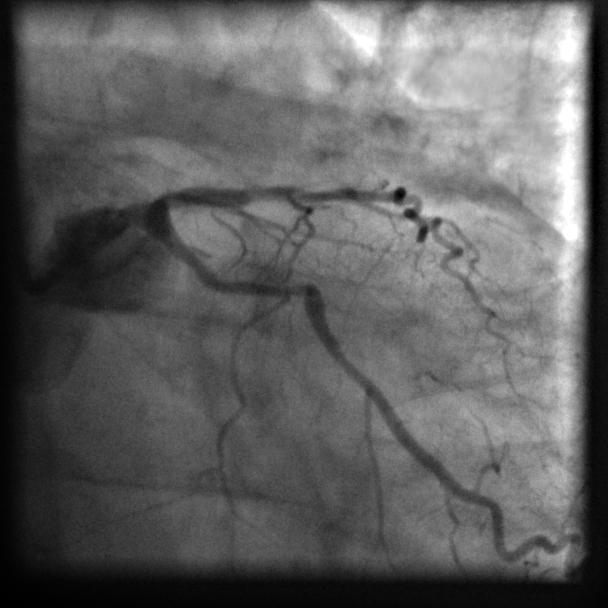Stenosis: (214, 268, 305, 307)
